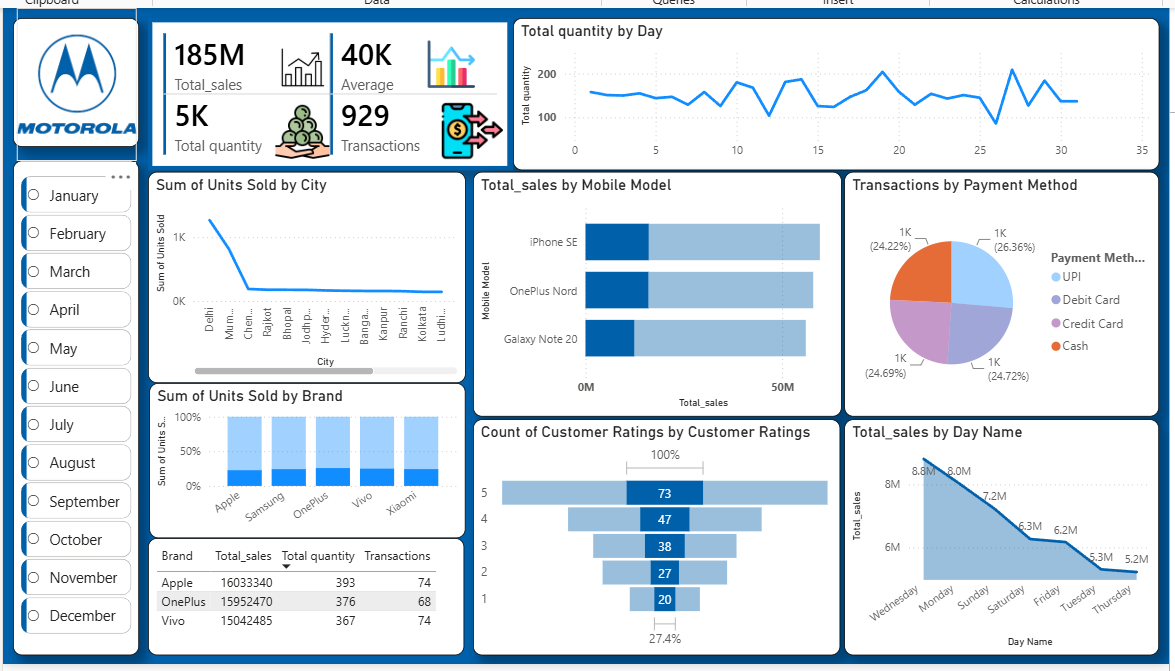

The dashboard page shown, as its layout file describes it:
{"tool":"powerbi","page":{"name":"Page 1","canvas":[1280,720],"ordinal":0},"visuals":[{"type":"shape","box":[11,11,138.6,141.3],"z":0},{"type":"shape","box":[11,167.4,138.6,543.4],"z":1000},{"type":"advancedSlicerVisual","fields":{"Values":["sales_data.Date.Variation.Date Hierarchy.Month"]},"box":[11,178.4,131.7,522.8],"z":2000},{"type":"image","box":[15.1,0,131.7,167.4],"z":3000},{"type":"cardVisual","fields":{"Data":["sales_data.Total_sales","sales_data.Average","sales_data.Total quantity","sales_data.Transactions"]},"box":[159.2,11,400.7,167.4],"z":4000},{"type":"image","box":[233.3,35.7,192.1,59],"z":5000},{"type":"image","box":[425.4,35.7,133.1,52.1],"z":6000},{"type":"image","box":[273.1,104.3,111.1,63.1],"z":7000},{"type":"image","box":[481.6,93.3,67.2,83.7],"z":8000},{"type":"lineChart","fields":{"Category":["sales_data.Date.Variation.Date Hierarchy.Month","sales_data.Date.Variation.Date Hierarchy.Day"],"Y":["sales_data.Total quantity"]},"box":[569.5,11,699.8,167.4],"z":9000},{"type":"clusteredBarChart","fields":{"Category":["sales_data.Mobile Model"],"Y":["sales_data.Total_sales"]},"box":[516,192.1,396.6,248.4],"z":10000},{"type":"pieChart","fields":{"Category":["sales_data.Payment Method"],"Y":["sales_data.Transactions"]},"box":[923.5,192.1,345.8,248.4],"z":11000},{"type":"funnel","fields":{"Category":["sales_data.Customer Ratings"],"Y":["CountNonNull(sales_data.Customer Ratings)"]},"box":[516,451.5,396.6,259.3],"z":12000},{"type":"areaChart","fields":{"Category":["sales_data.Day Name"],"Y":["sales_data.Total_sales"]},"box":[923.5,451.5,345.8,259.3],"z":13000},{"type":"tableEx","fields":{"Values":["sales_data.Brand","sales_data.Total_sales","sales_data.Total quantity","sales_data.Transactions"]},"box":[159.2,598.3,347.2,112.5],"z":14000},{"type":"map","fields":{"Category":["sales_data.City"],"Size":["Sum(sales_data.Units Sold)"]},"box":[159.2,178.4,496.7,358.1],"z":14001}]}

Visuals, with their boxes on the page's 1280x720 design canvas (x1, y1, x2, y2). These are canvas units, not pixel positions in the 1175x671 screenshot, which may show the page scaled, cropped or inside an application window:
shape: <box>11,11,150,152</box>
shape: <box>11,167,150,711</box>
advancedSlicerVisual - sales_data.Date.Variation.Date Hierarchy.Month: <box>11,178,143,701</box>
image: <box>15,0,147,167</box>
cardVisual - sales_data.Total_sales x sales_data.Average: <box>159,11,560,178</box>
image: <box>233,36,425,95</box>
image: <box>425,36,558,88</box>
image: <box>273,104,384,167</box>
image: <box>482,93,549,177</box>
lineChart - sales_data.Date.Variation.Date Hierarchy.Month x sales_data.Date.Variation.Date Hierarchy.Day: <box>570,11,1269,178</box>
clusteredBarChart - sales_data.Mobile Model x sales_data.Total_sales: <box>516,192,913,440</box>
pieChart - sales_data.Payment Method x sales_data.Transactions: <box>924,192,1269,440</box>
funnel - sales_data.Customer Ratings x CountNonNull(sales_data.Customer Ratings): <box>516,452,913,711</box>
areaChart - sales_data.Day Name x sales_data.Total_sales: <box>924,452,1269,711</box>
tableEx - sales_data.Brand x sales_data.Total_sales: <box>159,598,506,711</box>
map - sales_data.City x Sum(sales_data.Units Sold): <box>159,178,656,536</box>
